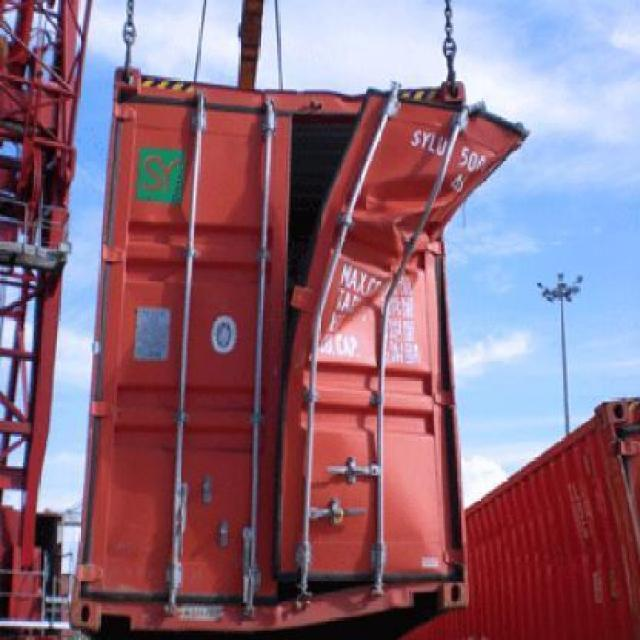dent: (287, 90, 532, 371), (263, 581, 414, 630)
